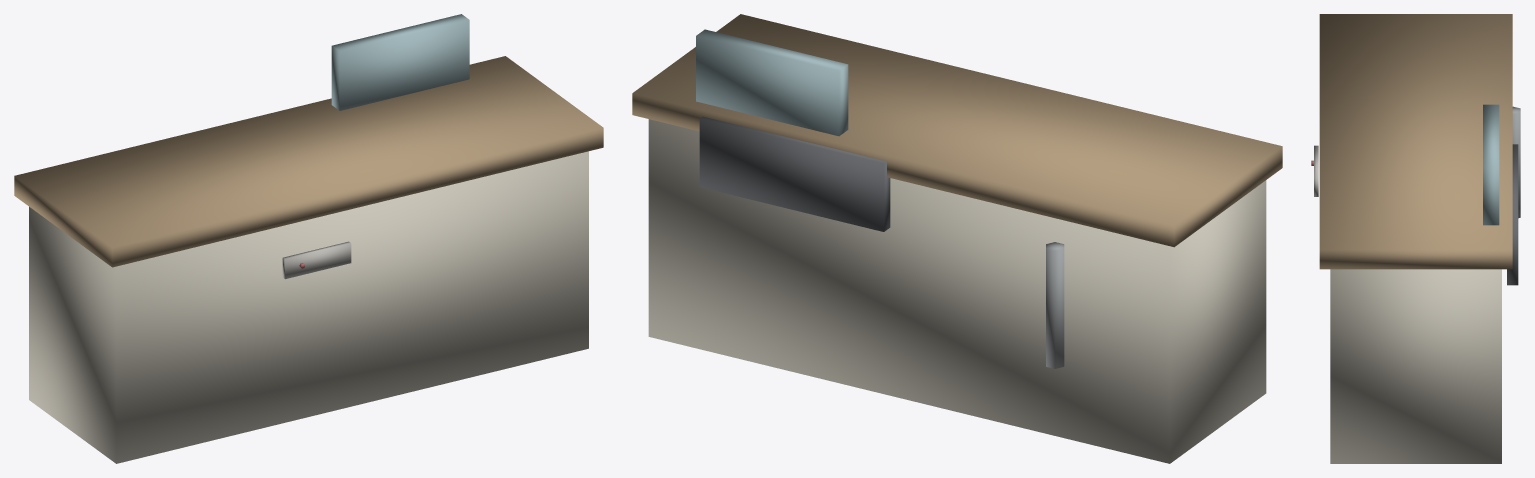
The model's file is post_office_counter__service.glb.
3 views of the same model, side by side, from view 1: azimuth 30°, elevation 25°; view 2: azimuth 150°, elevation 25°; view 3: azimuth 270°, elevation 25° (orthographic). The views are drawn at different scales.
Visible parts, largest first — view 1: world; view 2: world; view 3: world.
Part boxes in pixels (bbox=[...]): world: bbox=[14, 14, 603, 463]; world: bbox=[632, 14, 1282, 463]; world: bbox=[1311, 14, 1520, 463].
Size of the model in its own units: 2.08 by 1.14 by 0.7813.
